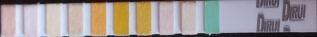color 1: (2, 6, 13, 35)
color 10: (206, 2, 217, 31)
color 2: (24, 6, 36, 35)
color 3: (47, 5, 59, 34)
color 4: (70, 5, 81, 34)
color 5: (93, 5, 104, 33)
color 6: (114, 4, 127, 33)
color 7: (138, 4, 149, 32)
color 8: (160, 4, 172, 33)
color 9: (183, 3, 194, 31)
